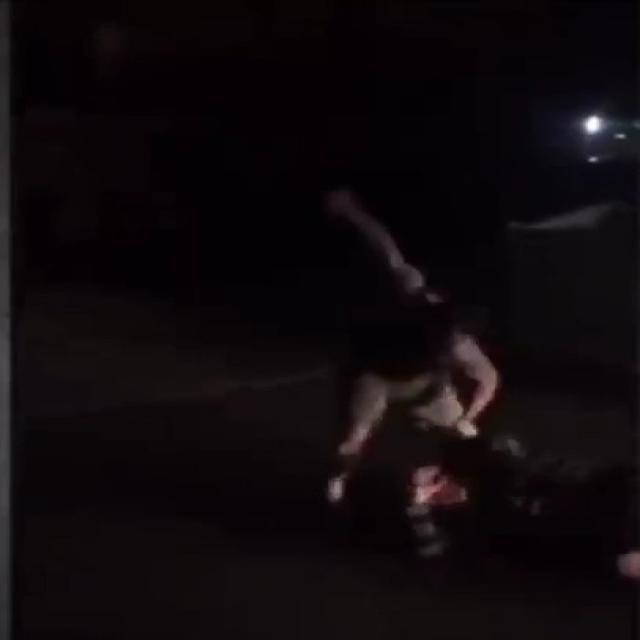violence: (307, 180, 640, 572)
